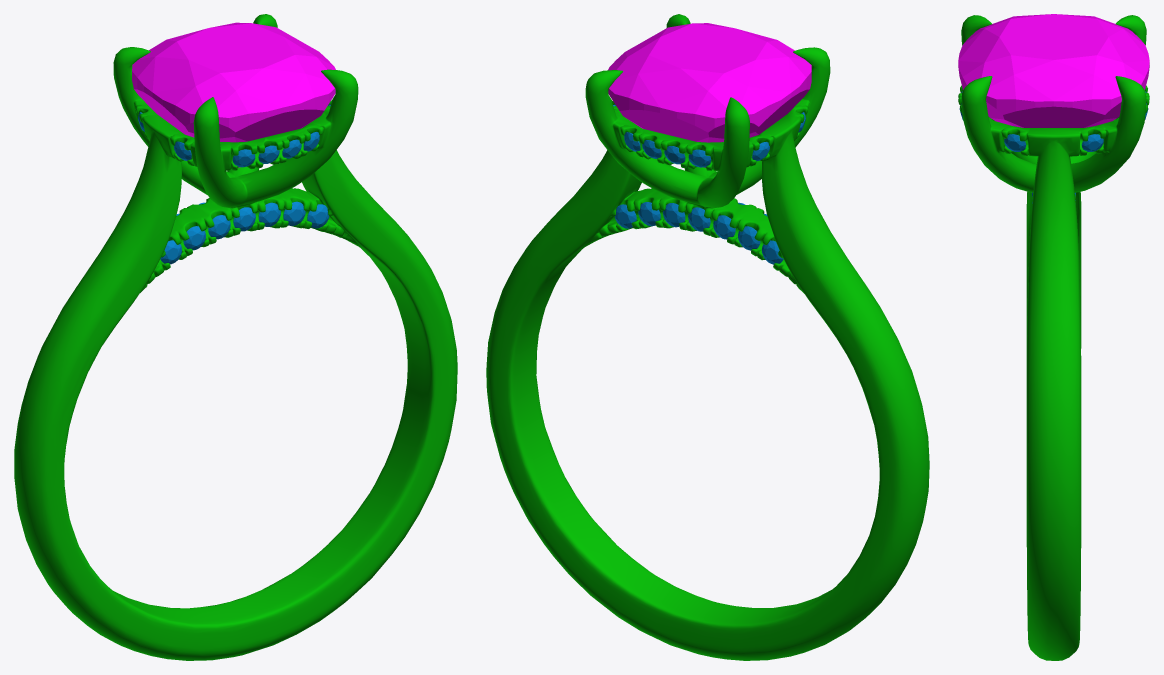
The model's file is BE1D483_CU_200ct_RENDER.glb.
3 renders of one model, left to right at view 1: azimuth 30°, elevation 25°; view 2: azimuth 150°, elevation 25°; view 3: azimuth 270°, elevation 25°, orthographic.
Parts seen in each view (by area): view 1: Metal 01, CS_Diamond_Cushion; view 2: Metal 01, CS_Diamond_Cushion; view 3: Metal 01, CS_Diamond_Cushion, Diamond_Round_Gem_HD.004.
Boxes of the visible parts, x1,y1,x2,y2 form: Metal 01: (14,14,457,660); CS_Diamond_Cushion: (132,22,335,167); Metal 01: (486,14,929,660); CS_Diamond_Cushion: (608,23,811,167); Metal 01: (958,15,1149,660); CS_Diamond_Cushion: (958,14,1149,127); Diamond_Round_Gem_HD.004: (1004,134,1026,151).
Bounding box in the file's own units: 19.53 × 26.01 × 7.5.
